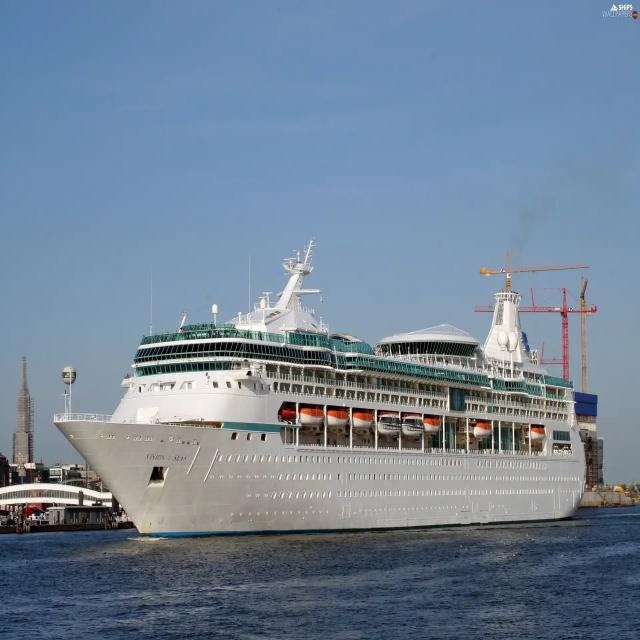PassengerShip: (59, 238, 631, 579)
